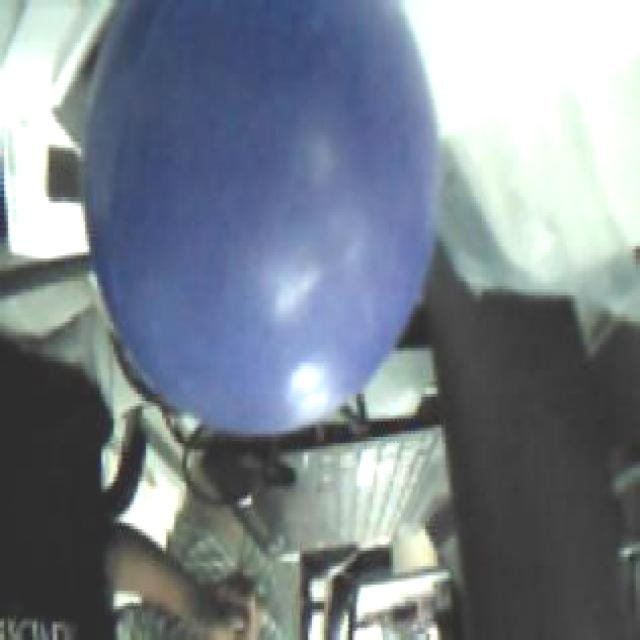BallPurple: (82, 0, 436, 435)
